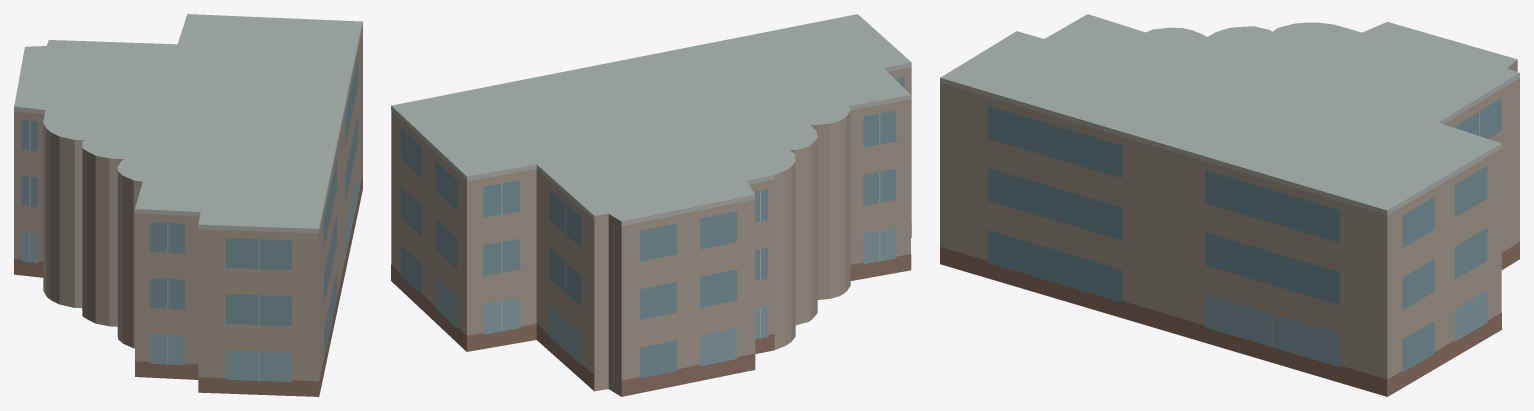
File: survey-upis-32765730.glb
The picture shows the model from 3 angles, left to right: view 1: azimuth 30°, elevation 25°; view 2: azimuth 150°, elevation 25°; view 3: azimuth 270°, elevation 25°; orthographic projection. The views are drawn at different scales.
Visible parts, largest first — view 1: survey-upis-32765730.tmp; view 2: survey-upis-32765730.tmp; view 3: survey-upis-32765730.tmp.
Part boxes in pixels (x1,y1,x2,y2): survey-upis-32765730.tmp: (14,14,362,396); survey-upis-32765730.tmp: (391,14,911,396); survey-upis-32765730.tmp: (940,14,1519,396).
Bounding box in the file's own units: 20.7 × 9.15 × 25.81.
